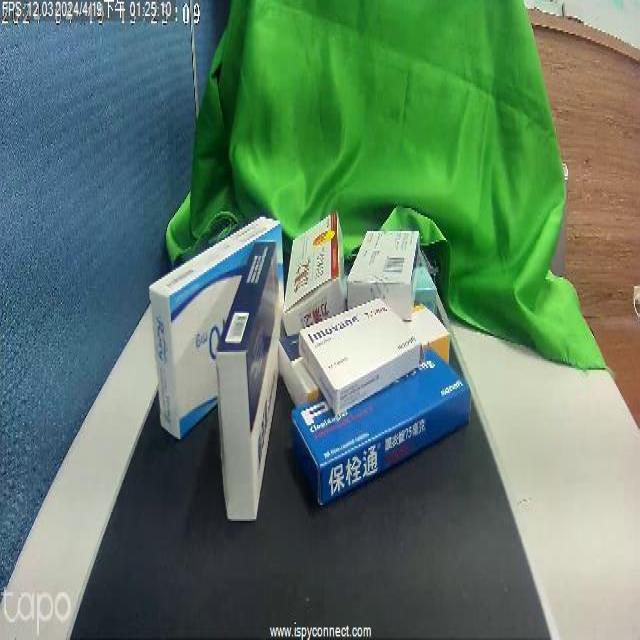box: (303, 366, 466, 500), (213, 263, 291, 511), (154, 220, 222, 435), (300, 299, 415, 406), (286, 214, 350, 314)
